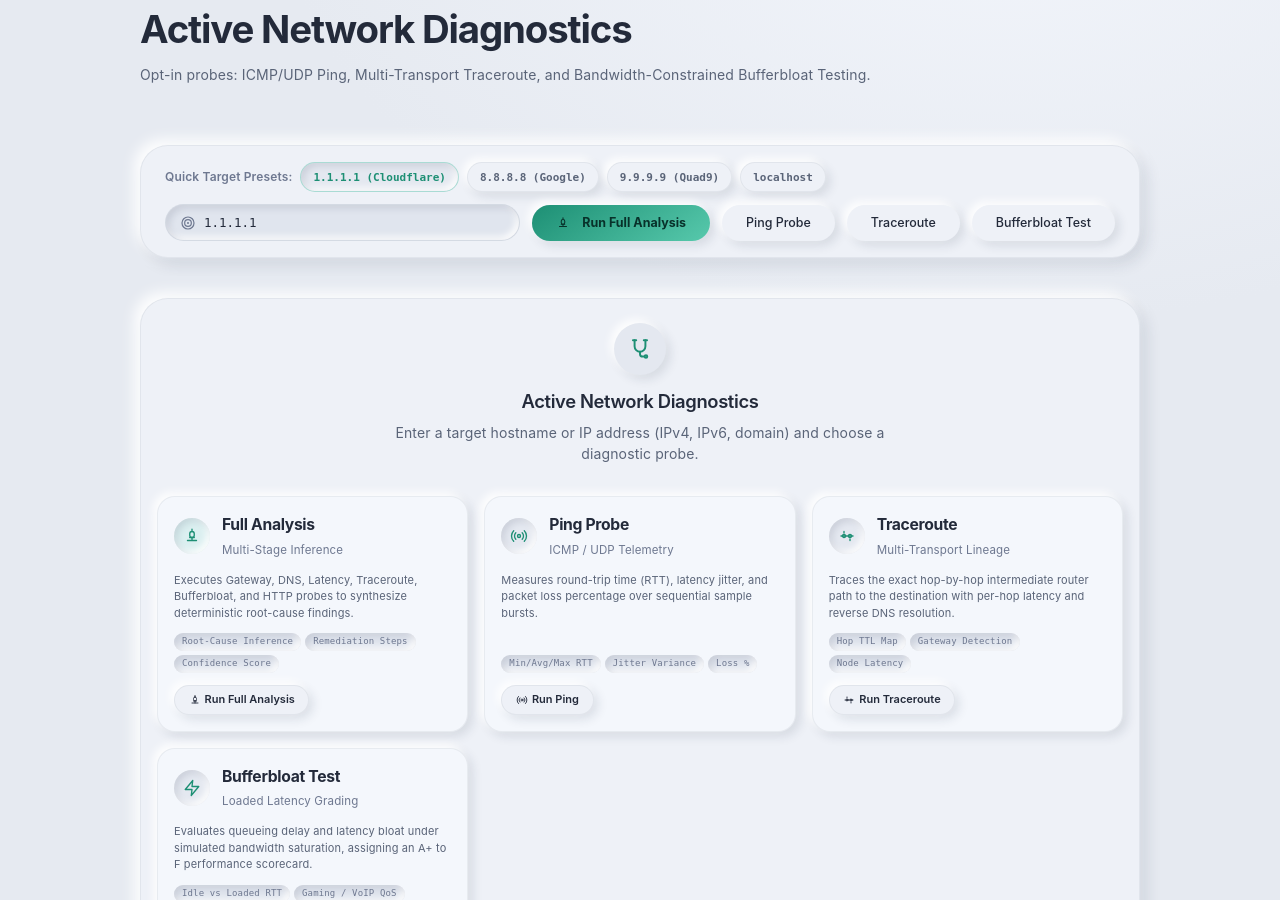
Test: Diagnostics Vertical Slice Verification Checkpoints › Checkpoint 2: Preset Switching - Clicking '8.8.8.8', '9.9.9.9', or 'localhost' updates target well and sets aria-pressed='true' on active preset
expect the field with placeholder "Target Host (e.g. 1.1.1.1, google.com)" holds "1.1.1.1": met, box top-left (204, 207), bottom-right (505, 238)
Click the button "8.8.8.8 (Google)": (533, 177) top-left (467, 162), bottom-right (599, 192)
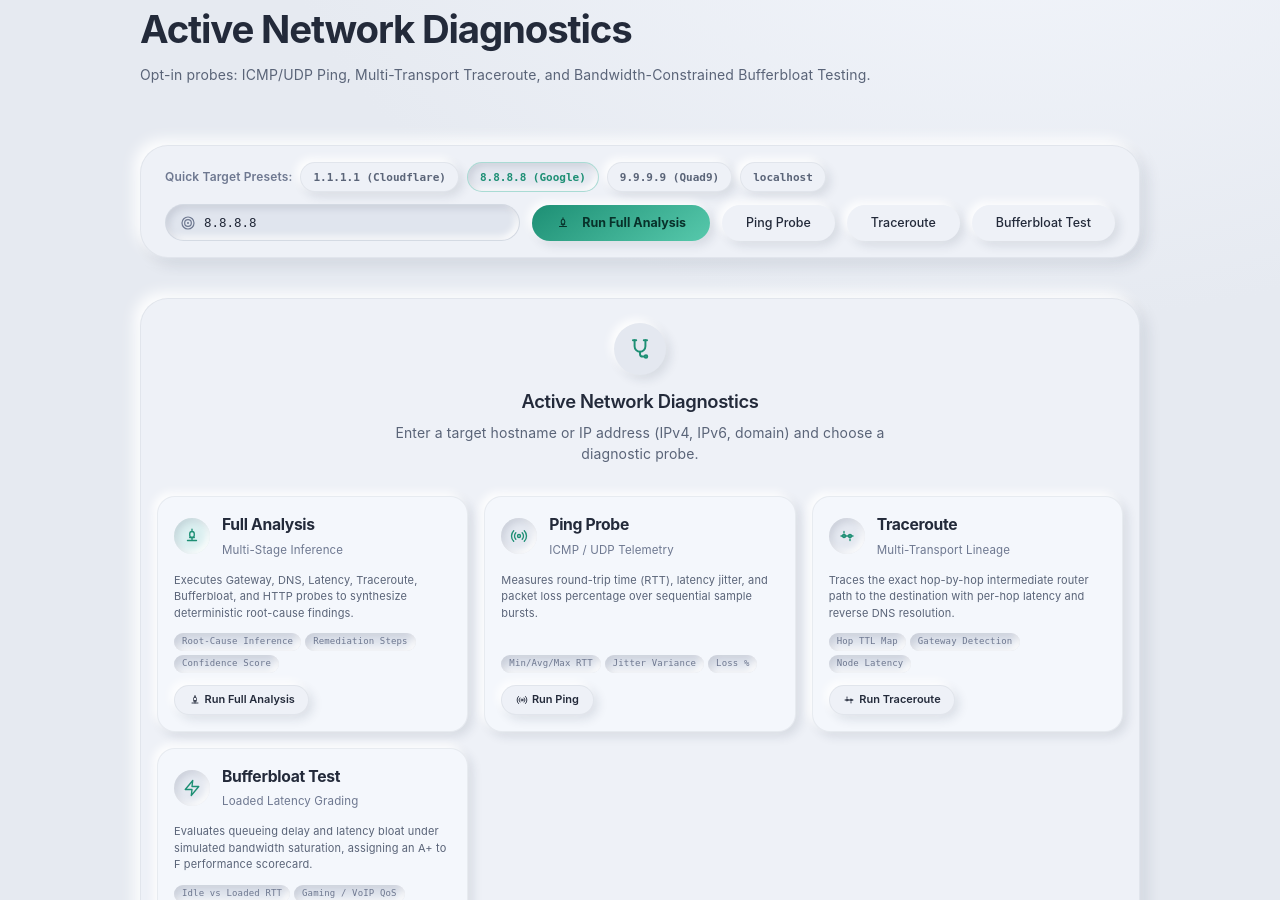
expect the field with placeholder "Target Host (e.g. 1.1.1.1, google.com)" holds "8.8.8.8": met, box top-left (204, 207), bottom-right (505, 238)
Click the button "9.9.9.9 (Quad9)": (670, 177) top-left (607, 162), bottom-right (732, 192)
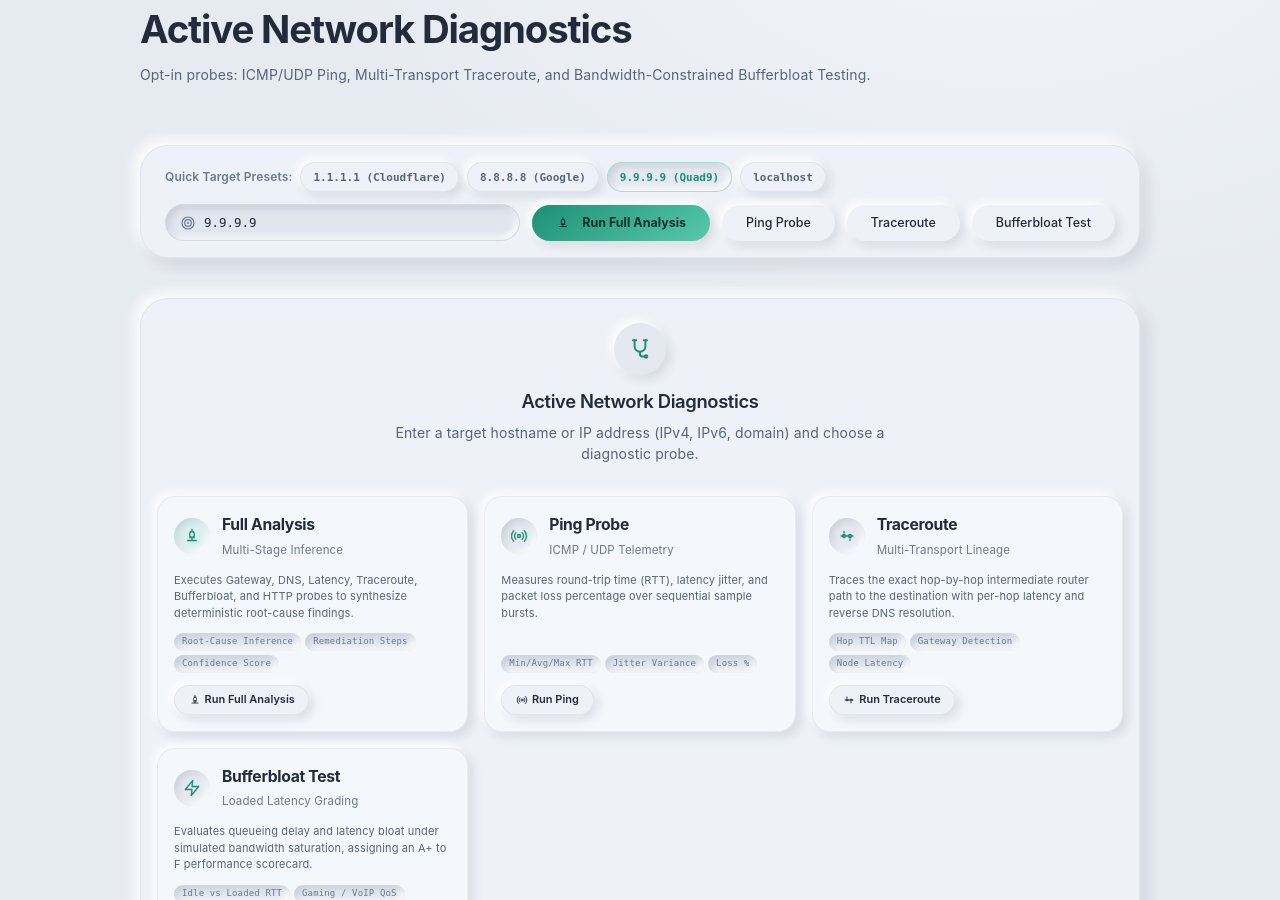
expect the field with placeholder "Target Host (e.g. 1.1.1.1, google.com)" holds "9.9.9.9": met, box top-left (204, 207), bottom-right (505, 238)
Note: Click localhost
Click the button "localhost": (783, 177) top-left (740, 162), bottom-right (826, 192)
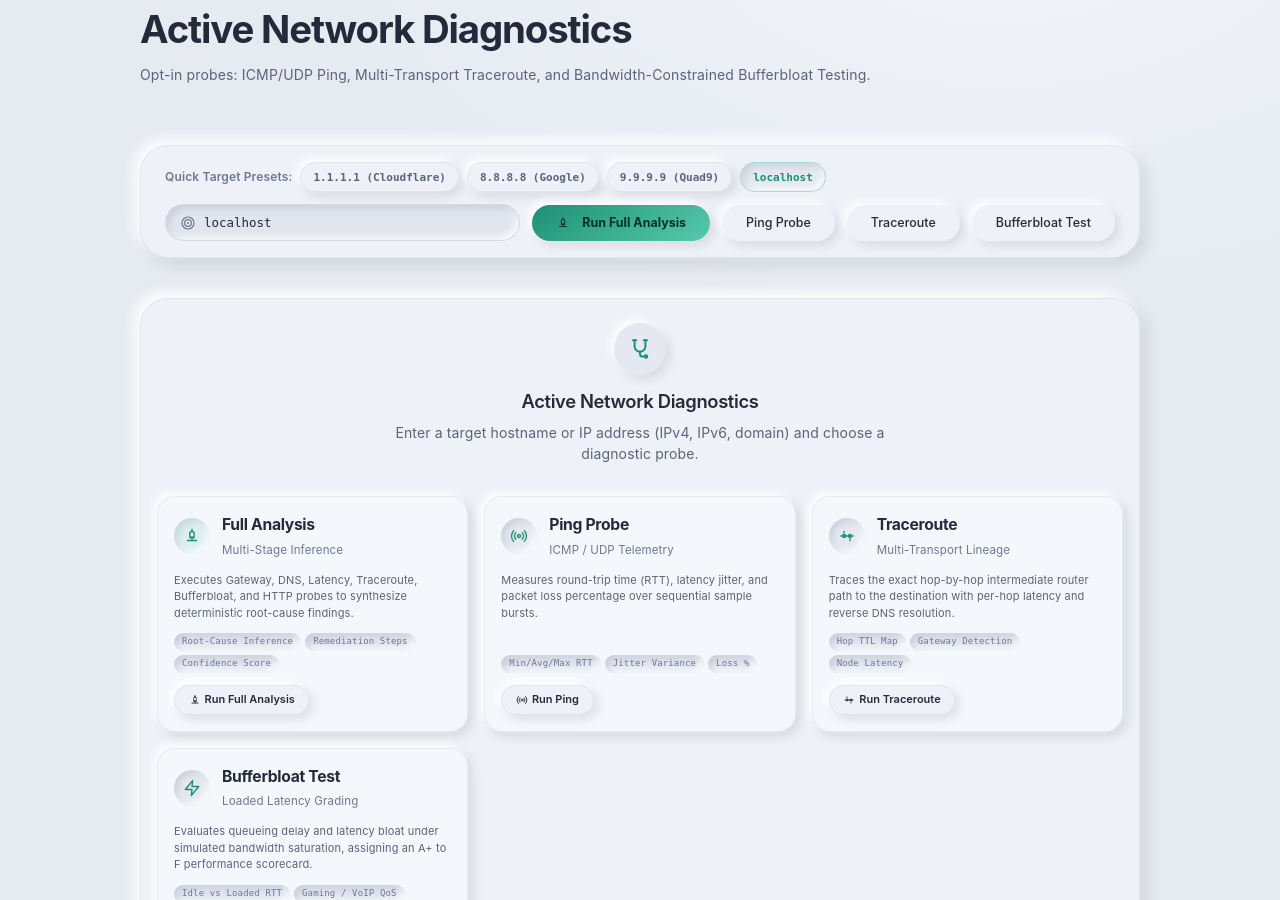
expect the field with placeholder "Target Host (e.g. 1.1.1.1, google.com)" holds "localhost": met, box top-left (204, 207), bottom-right (505, 238)
